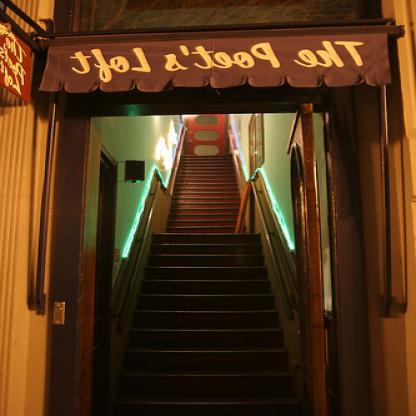stairs: (130, 302, 275, 413)
